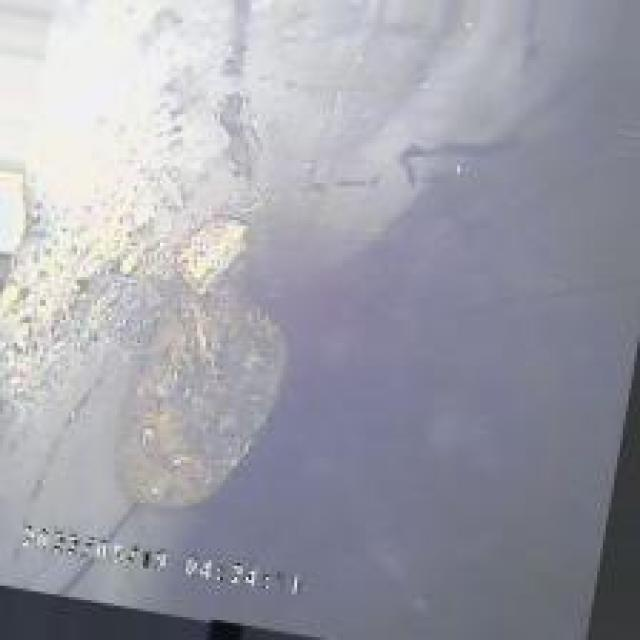stone: (111, 277, 272, 509)
